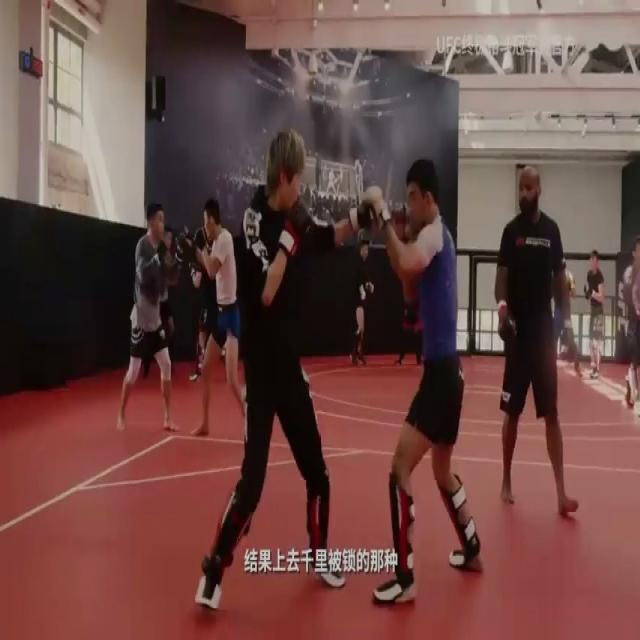fight: (192, 125, 480, 626), (117, 199, 246, 434)
non-fight: (489, 166, 583, 522), (612, 234, 640, 414)
